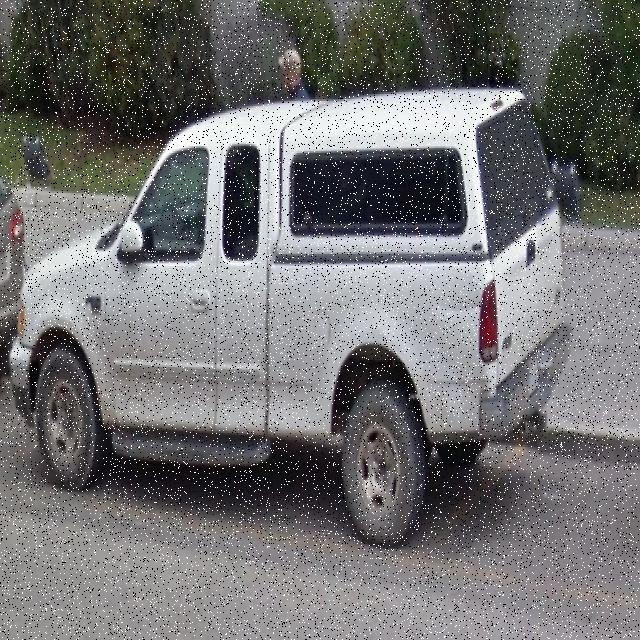cars: (22, 113, 576, 529)
